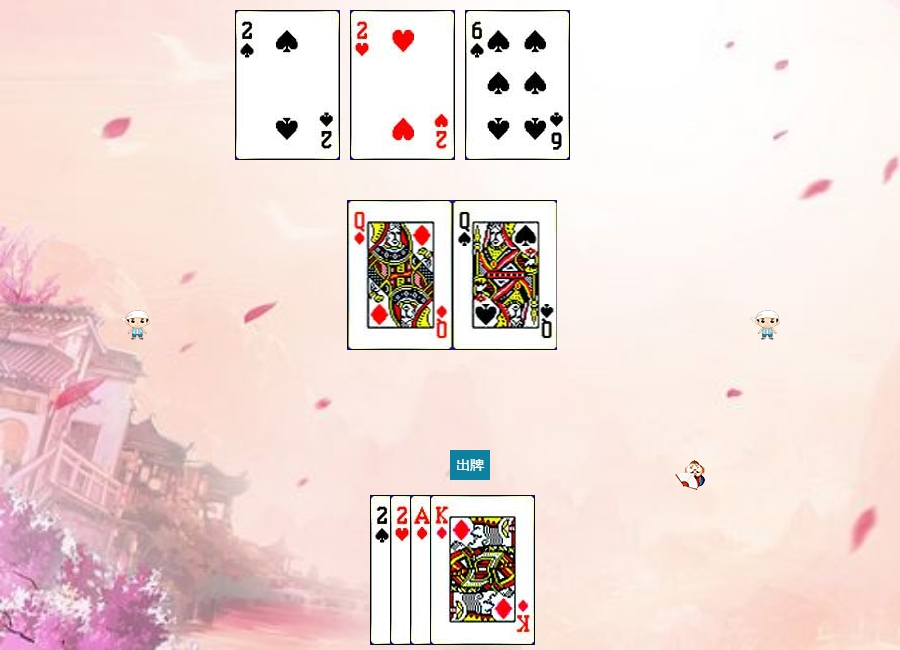12~1: (348, 200, 453, 350)
12~4: (453, 200, 558, 350)
13~1: (430, 495, 535, 645)
14~1: (410, 495, 515, 645)
15~3: (350, 10, 455, 160), (390, 495, 495, 645)
15~4: (235, 10, 340, 160), (370, 495, 475, 645)
6~4: (465, 10, 570, 160)
